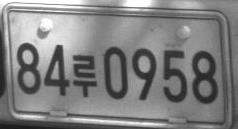0: (103, 46, 128, 100)
4: (42, 44, 70, 95)
5: (163, 49, 188, 103)
8: (191, 49, 219, 105), (15, 41, 42, 95)
9: (130, 47, 157, 100)
루: (71, 54, 97, 97)
